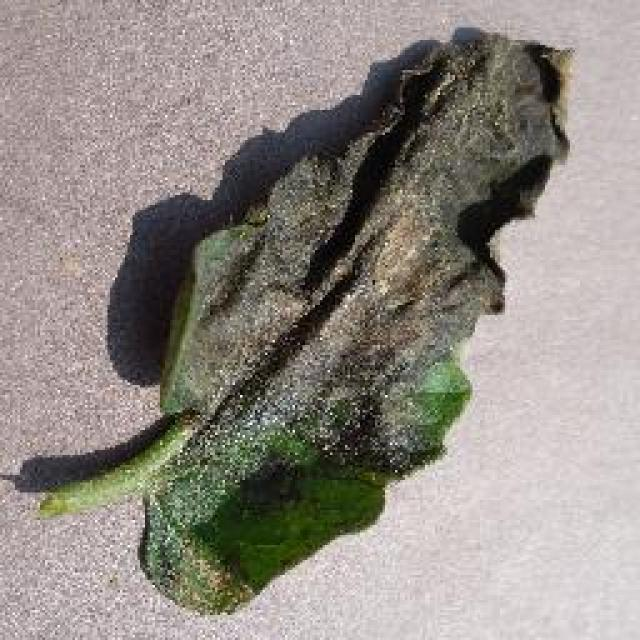Tomato Late Blight: (180, 57, 555, 495)
